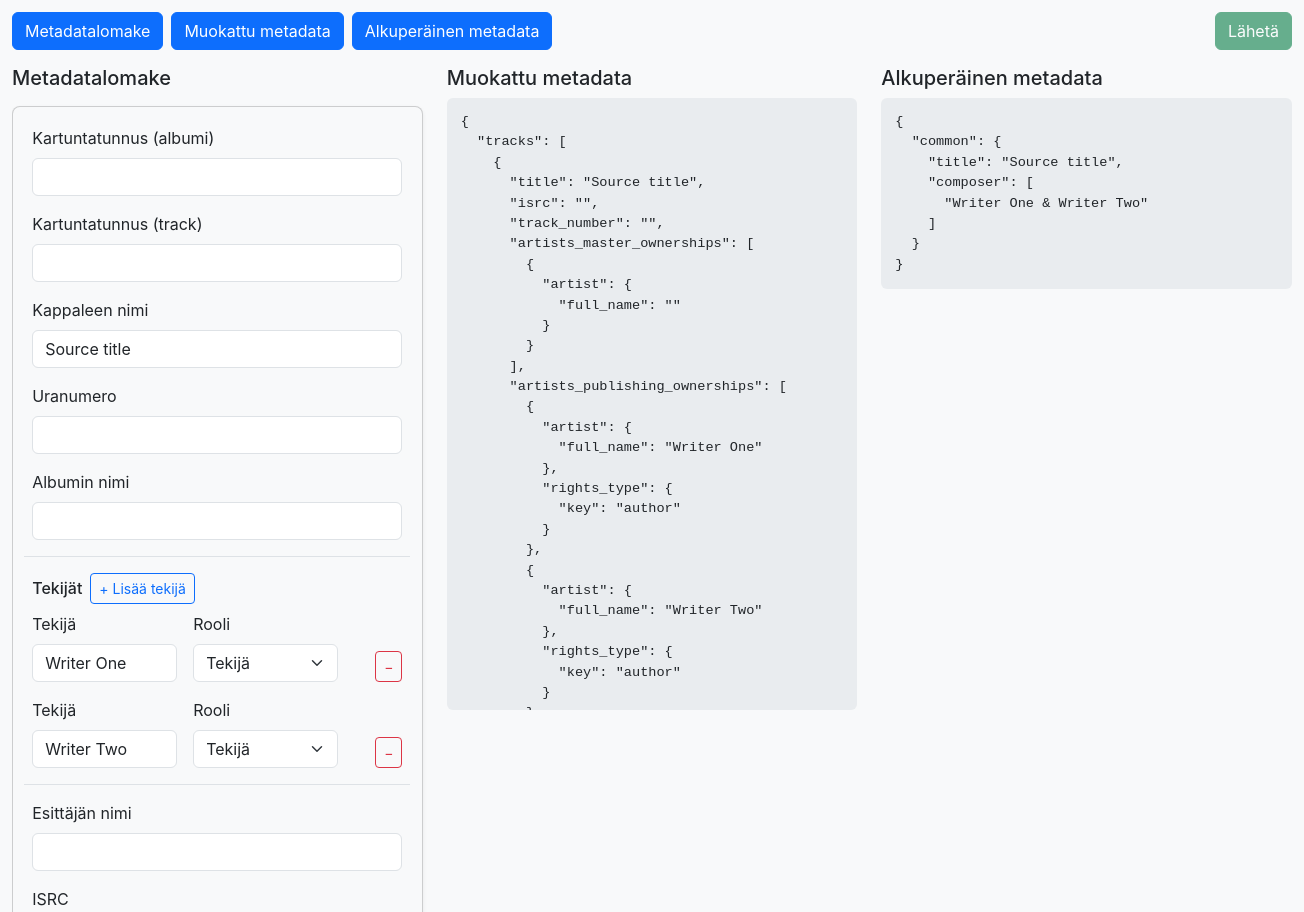
Scenario: highlights focused fields in edited and original metadata where their source is known
The width and height of the screenshot is (1304, 912).
Focus the field labelled "Kappaleen nimi" at point(217, 349), box 32,330 -> 402,368
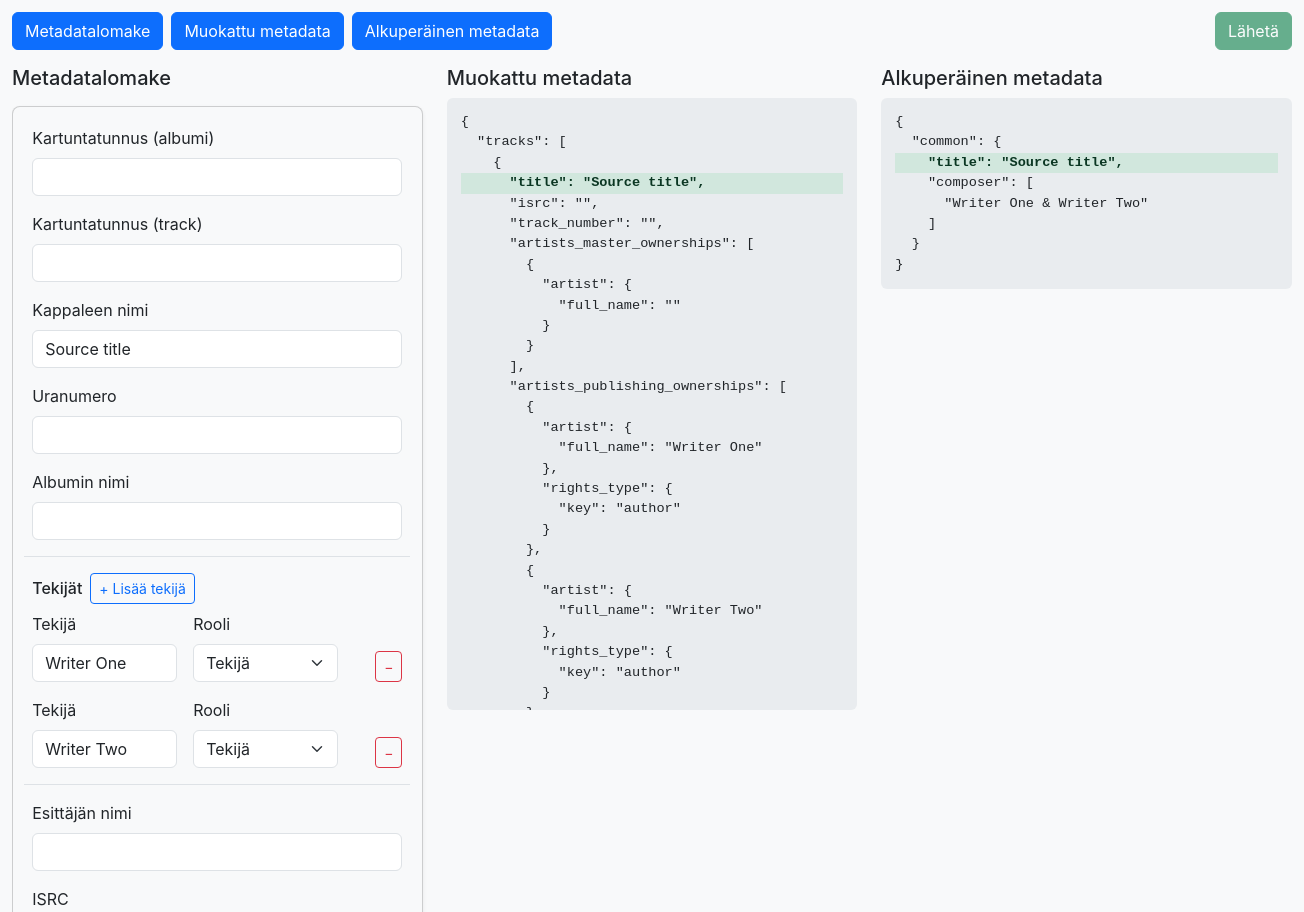
Focus the field with id "metadata-author-name-1" at point(105, 749), box 32,730 -> 177,768
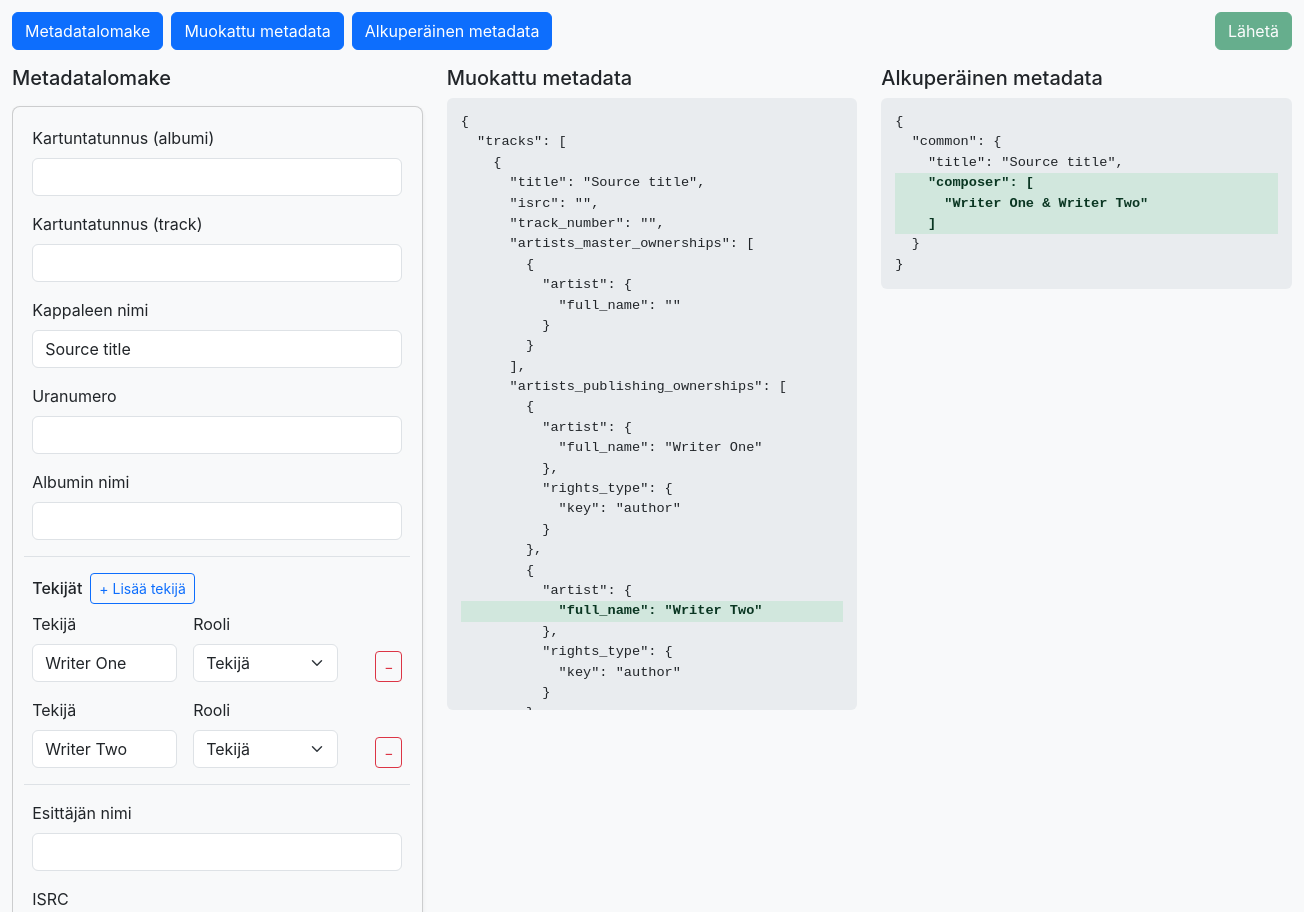
Focus the dropdown with id "metadata-author-role-1" at point(266, 749), box 193,730 -> 338,768
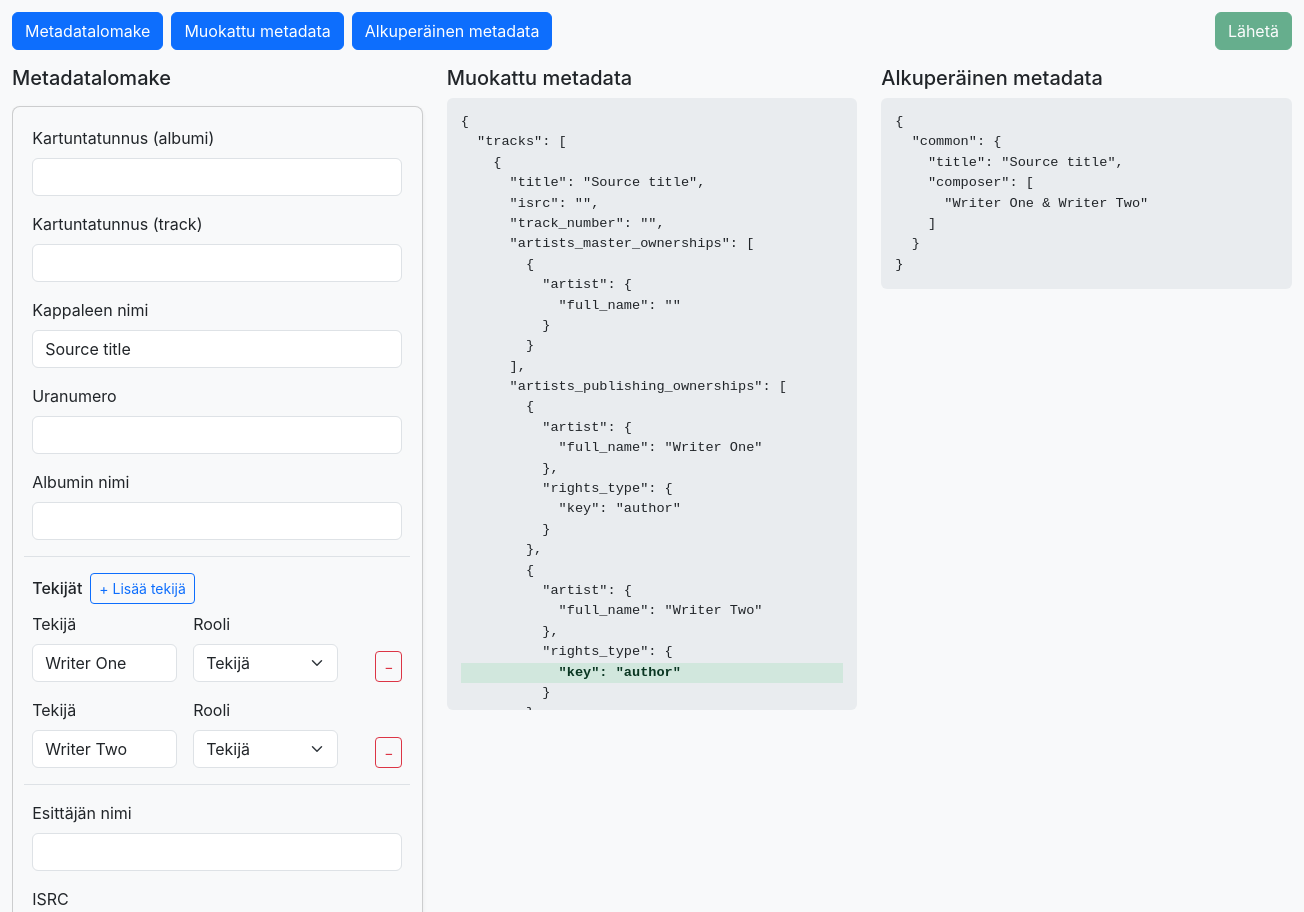
Expected: the text with class "json-line-highlight" is shown, 461,662 -> 843,683
